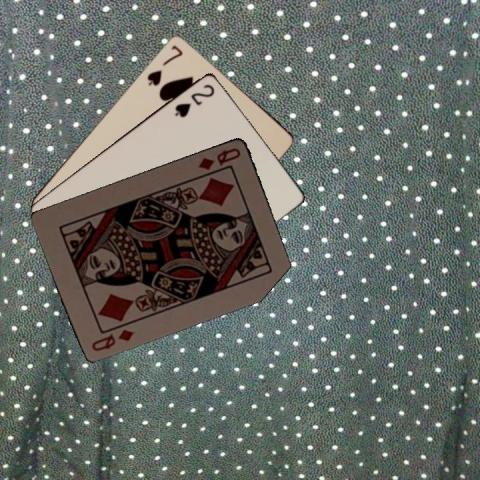2s: (171, 80, 217, 118)
7s: (143, 42, 184, 88)
Qd: (89, 325, 136, 353), (195, 145, 242, 171)
